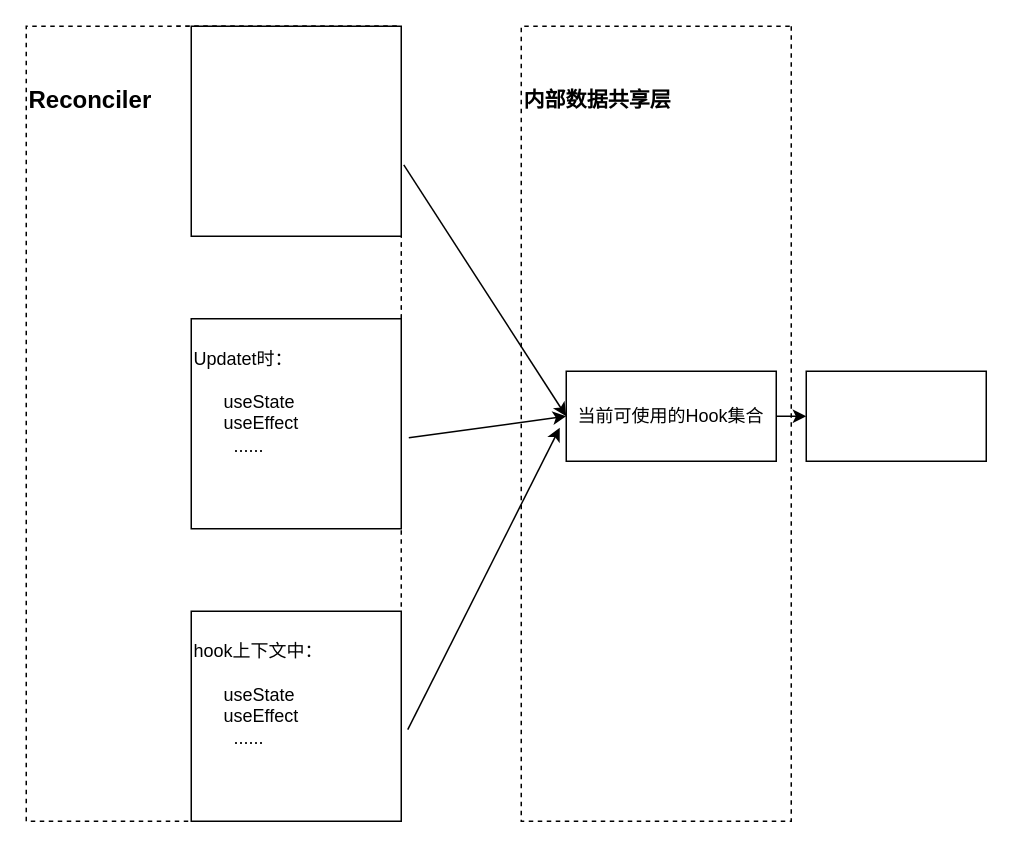
This 1013x848 diagram has some shape labels left out. The centre of each missing label's shape, as x and y in pixels:
Mount时： useState useEffect ......: (x=295, y=130)
React: (x=895, y=415)
